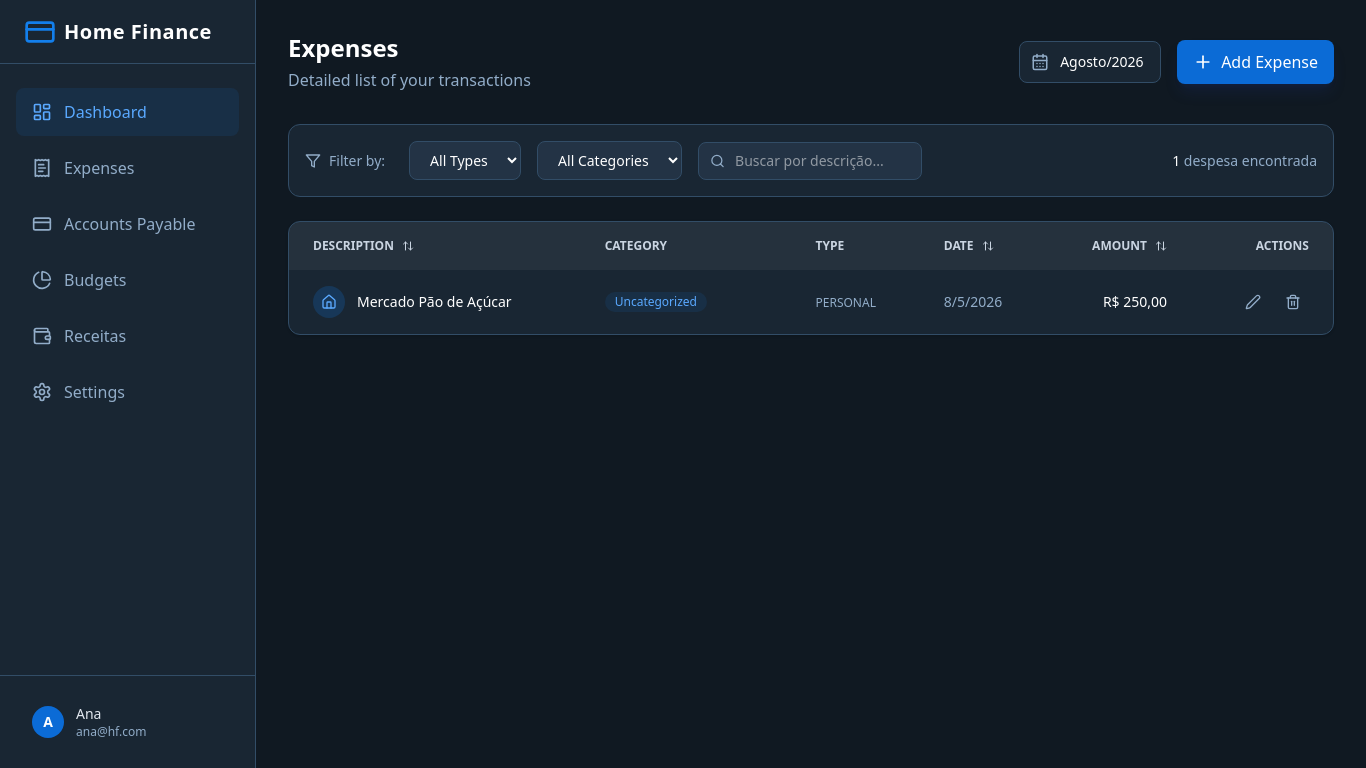
it: Expenses (integração) › filtra por tipo (refetch com type) e some quando o servidor não retorna
The width and height of the screenshot is (1366, 768).
Expected: the text "Mercado Pão de Açúcar" is shown, left=357, top=292, right=512, bottom=312
Select "Shared" in the dropdown named "Filtrar por tipo" at {"x": 465, "y": 160}, box left=409, top=141, right=521, bottom=180
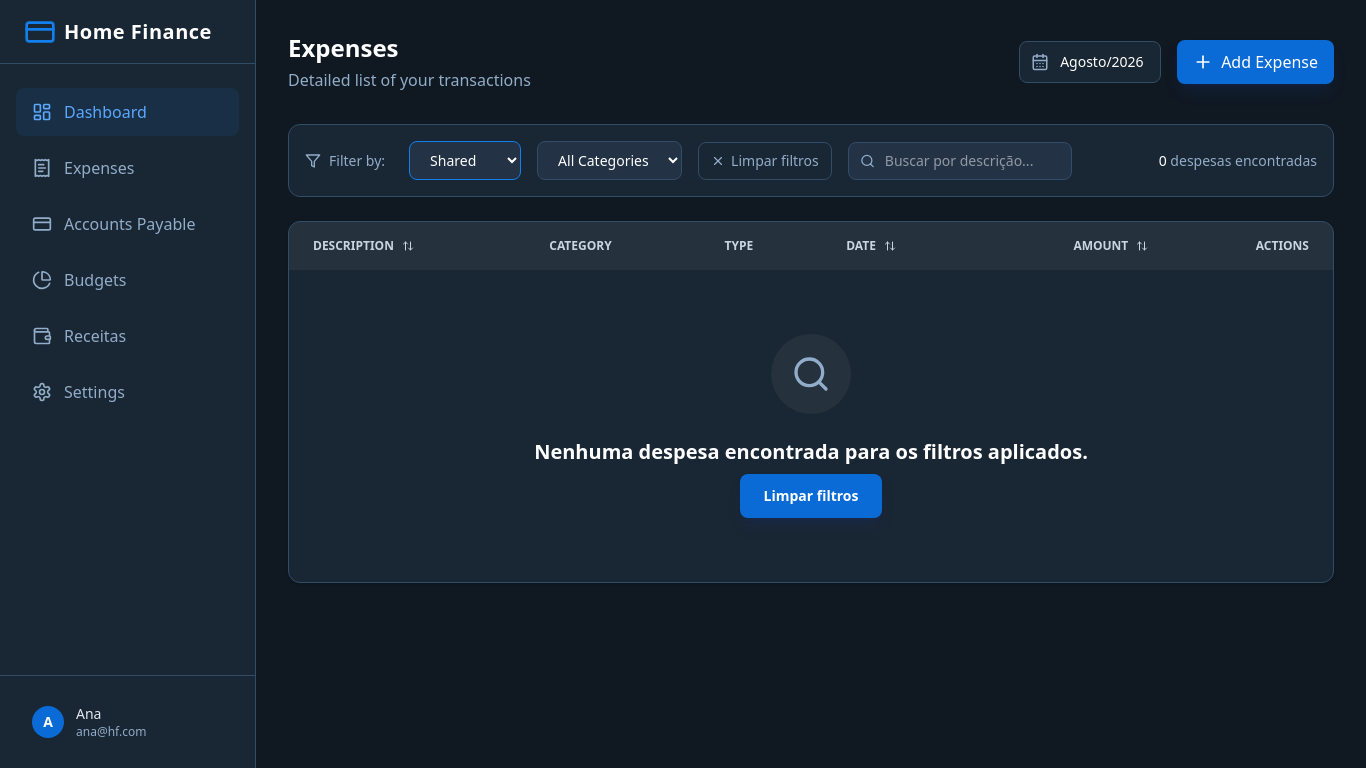
Expected: the text "Mercado Pão de Açúcar" is gone
